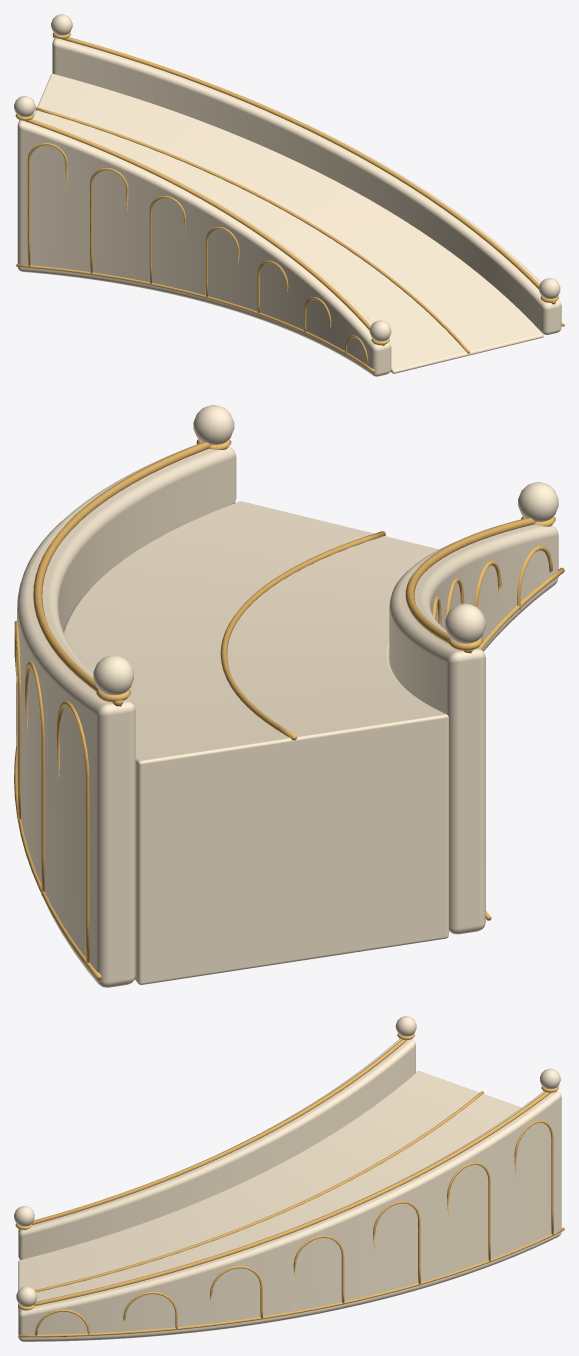
File: curved-ramp.glb
3 renders of one model, top to bottom at view 1: azimuth 30°, elevation 25°; view 2: azimuth 150°, elevation 25°; view 3: azimuth 270°, elevation 25°, orthographic. The views are drawn at different scales.
Parts seen in each view (by area): view 1: CurvedRamp; view 2: CurvedRamp; view 3: CurvedRamp.
Boxes of the visible parts, left/top/right/bottom form: CurvedRamp: left=14, top=14, right=564, bottom=376; CurvedRamp: left=14, top=405, right=564, bottom=987; CurvedRamp: left=14, top=1016, right=564, bottom=1341.
Bounding box in the file's own units: 3.71 × 1.74 × 5.21.
